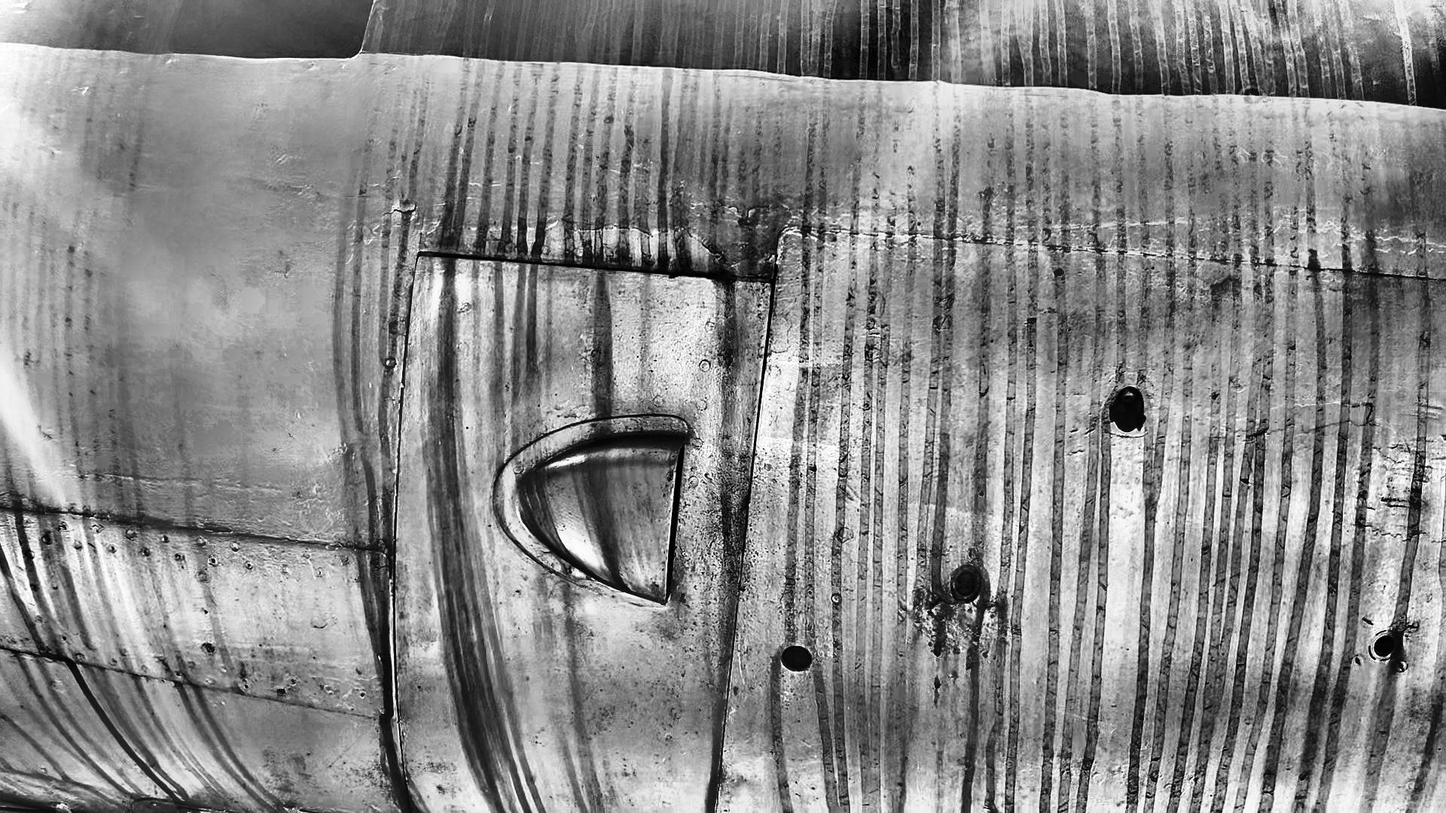crack: (572, 223, 728, 262), (392, 202, 419, 220)
paint-peel-off: (929, 598, 961, 623)
